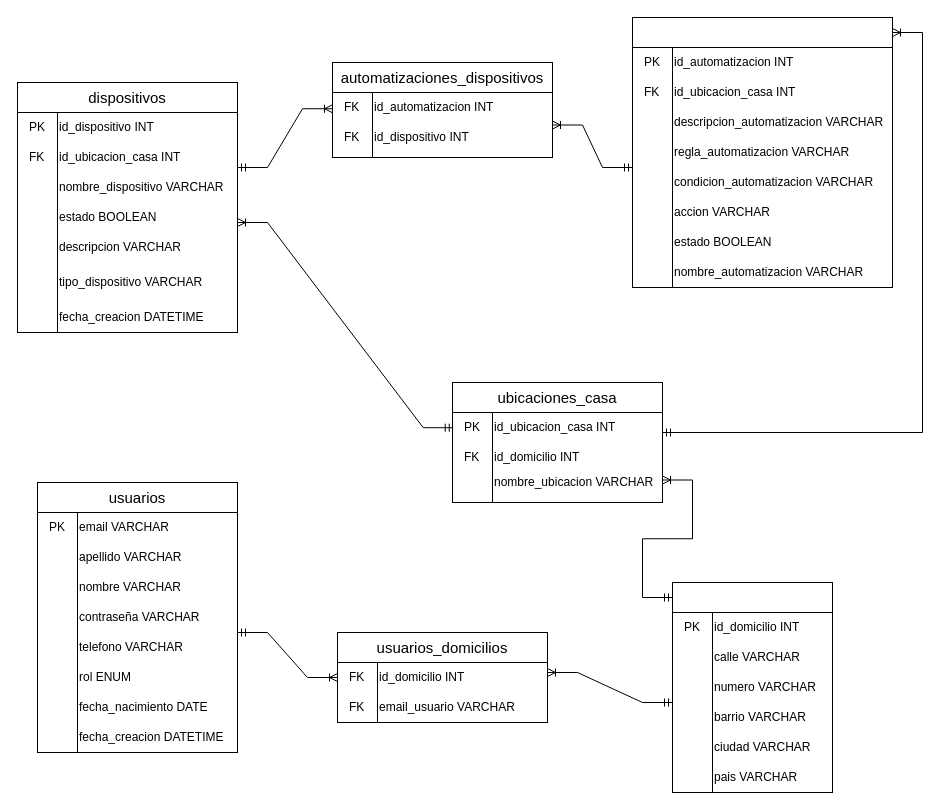
The diagram is 949 pixels wide and 810 high, and some of its shapes have lost their labels. The shapes that lost their labels are listed below. From the top down, each one's box as (x1, y1, x2, y2) in pixels, then its label:
(632, 16, 892, 48): automatizaciones
(672, 582, 832, 612): domicilios
